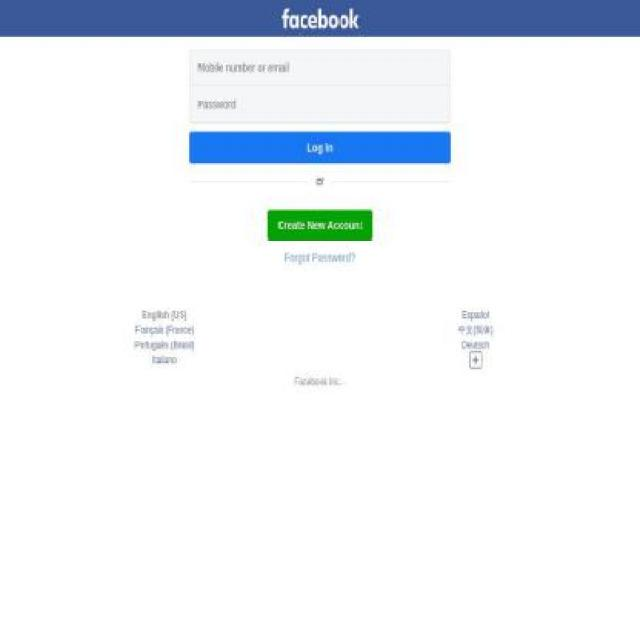button: (190, 132, 450, 163), (319, 352, 632, 368), (268, 209, 372, 240), (281, 9, 359, 23)
field: (190, 86, 450, 122), (190, 50, 450, 85)
